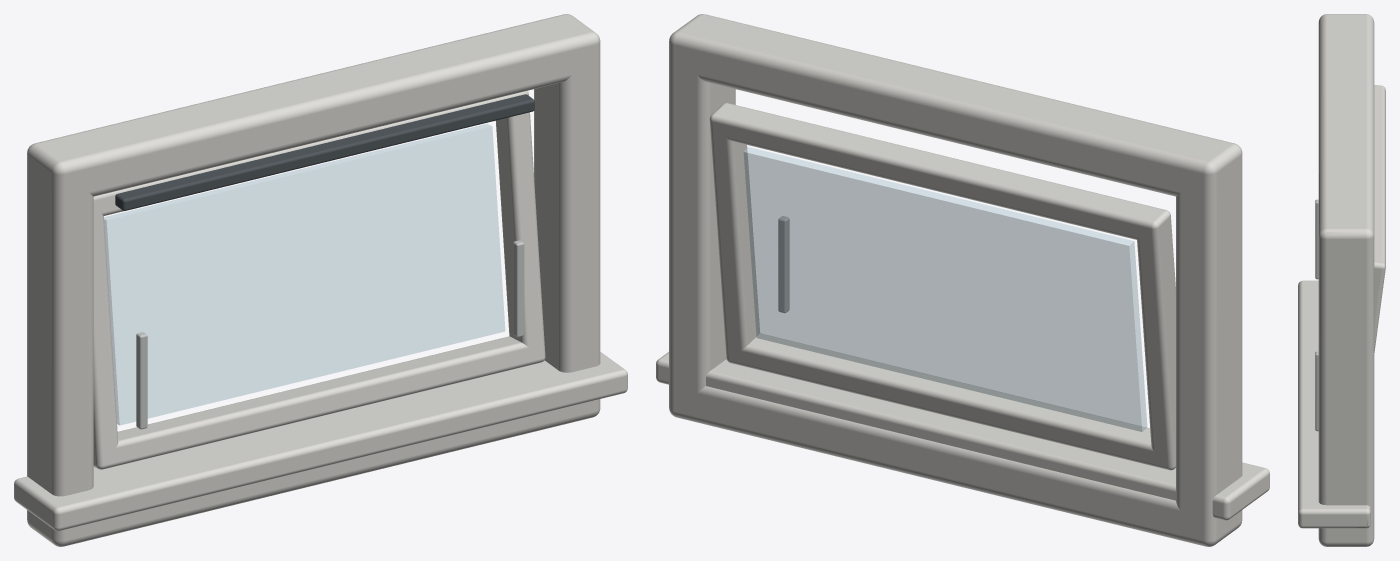
File: modern-square-awning-window.optimized.glb
3 renders of one model, left to right at view 1: azimuth 30°, elevation 25°; view 2: azimuth 150°, elevation 25°; view 3: azimuth 270°, elevation 25°, orthographic. The views are drawn at different scales.
Visible parts, largest first — view 1: outer frame top rail, awning insulated glass, top hinge cover, left friction stay; view 2: outer frame top rail, awning insulated glass, left friction stay; view 3: outer frame top rail, left friction stay.
Part boxes in pixels (box(x1,y1,x2,y2)): outer frame top rail: box(14, 14, 627, 546); awning insulated glass: box(104, 124, 505, 425); top hinge cover: box(115, 94, 534, 210); left friction stay: box(136, 240, 524, 429); outer frame top rail: box(656, 14, 1269, 546); awning insulated glass: box(743, 147, 1147, 431); left friction stay: box(778, 216, 789, 312); outer frame top rail: box(1298, 14, 1385, 546); left friction stay: box(1315, 199, 1318, 431).
Size of the model in its own units: 1.28 by 0.8199 by 0.205.
